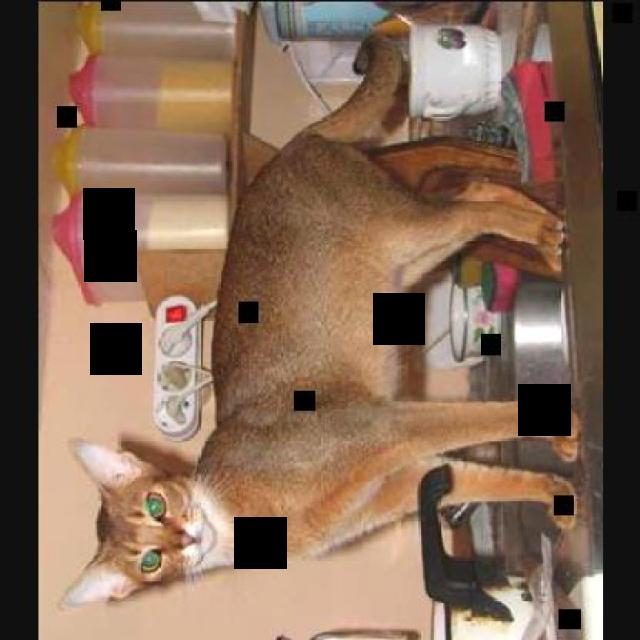unauthorized: (57, 31, 581, 612)
